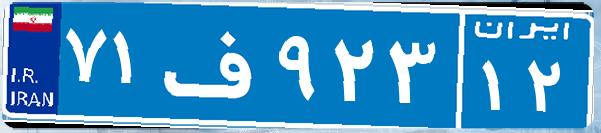1: (475, 38, 525, 113), (110, 28, 158, 105)
2: (330, 28, 385, 110), (525, 38, 570, 115)
3: (385, 28, 445, 110)
7: (57, 26, 110, 107)
9: (273, 28, 330, 110)
ف: (158, 15, 273, 115)
